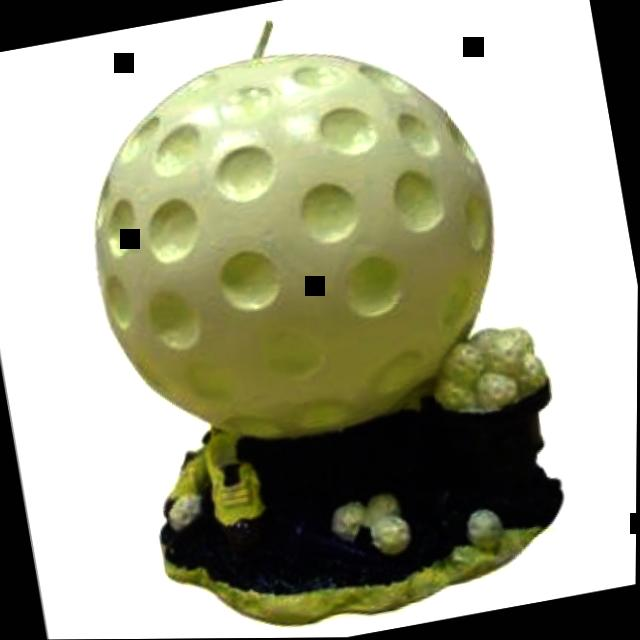golf ball: (57, 6, 544, 475)
